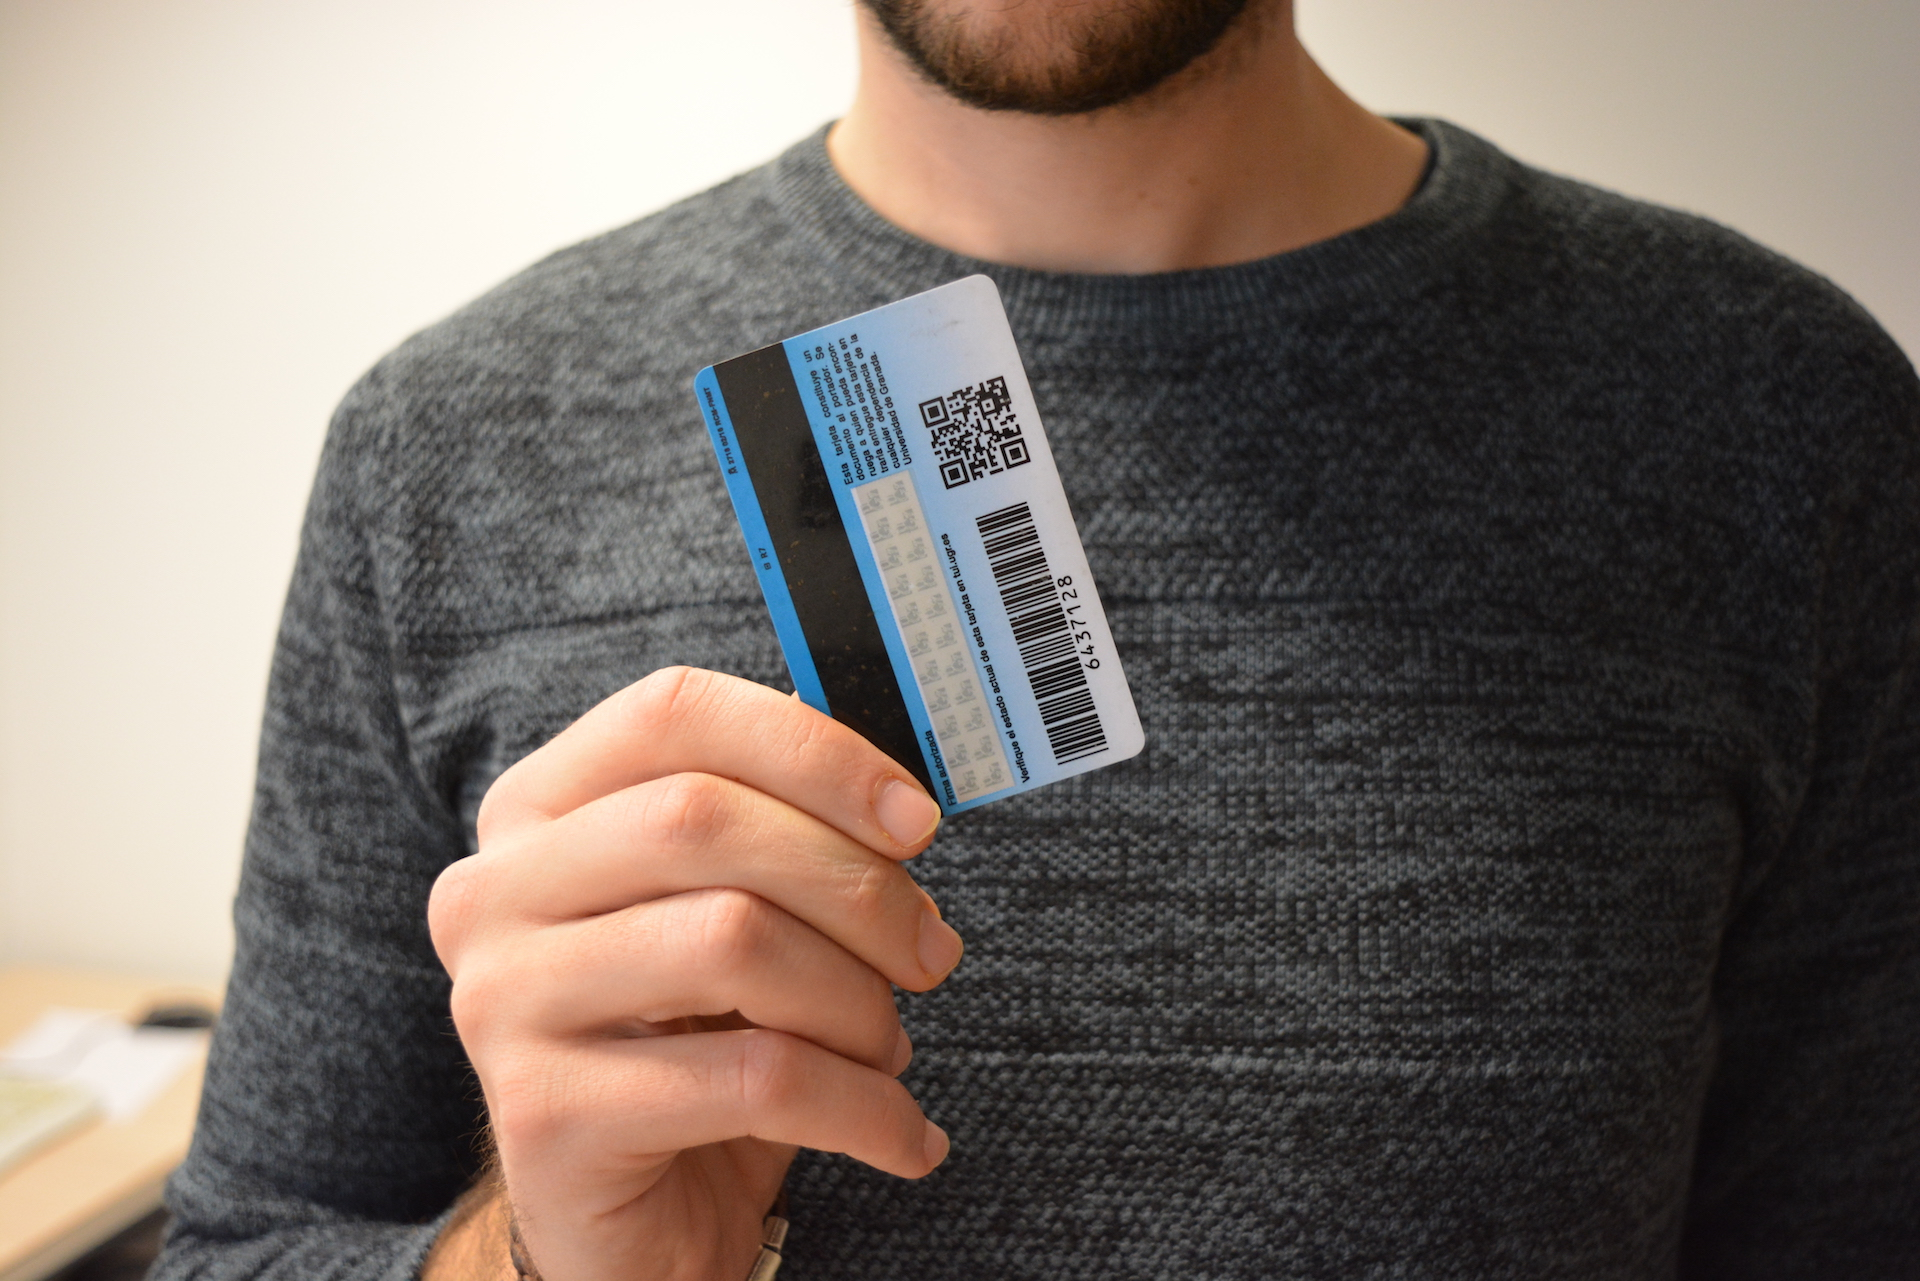tarjeta: (692, 272, 1147, 821)
